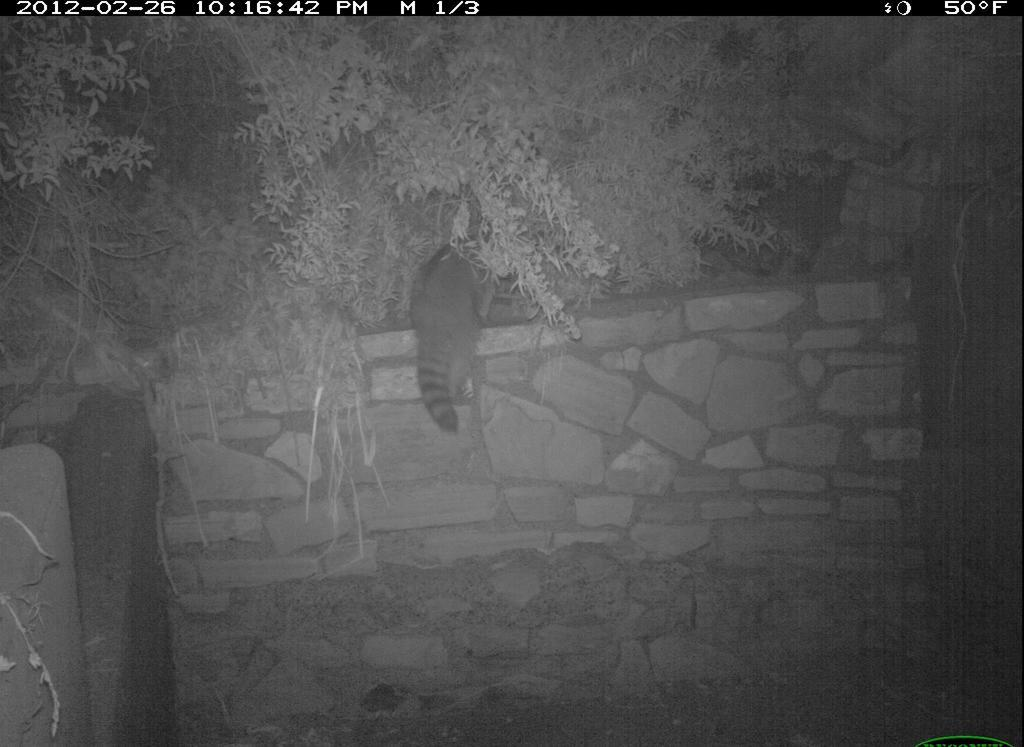raccoon: (359, 171, 533, 445)
